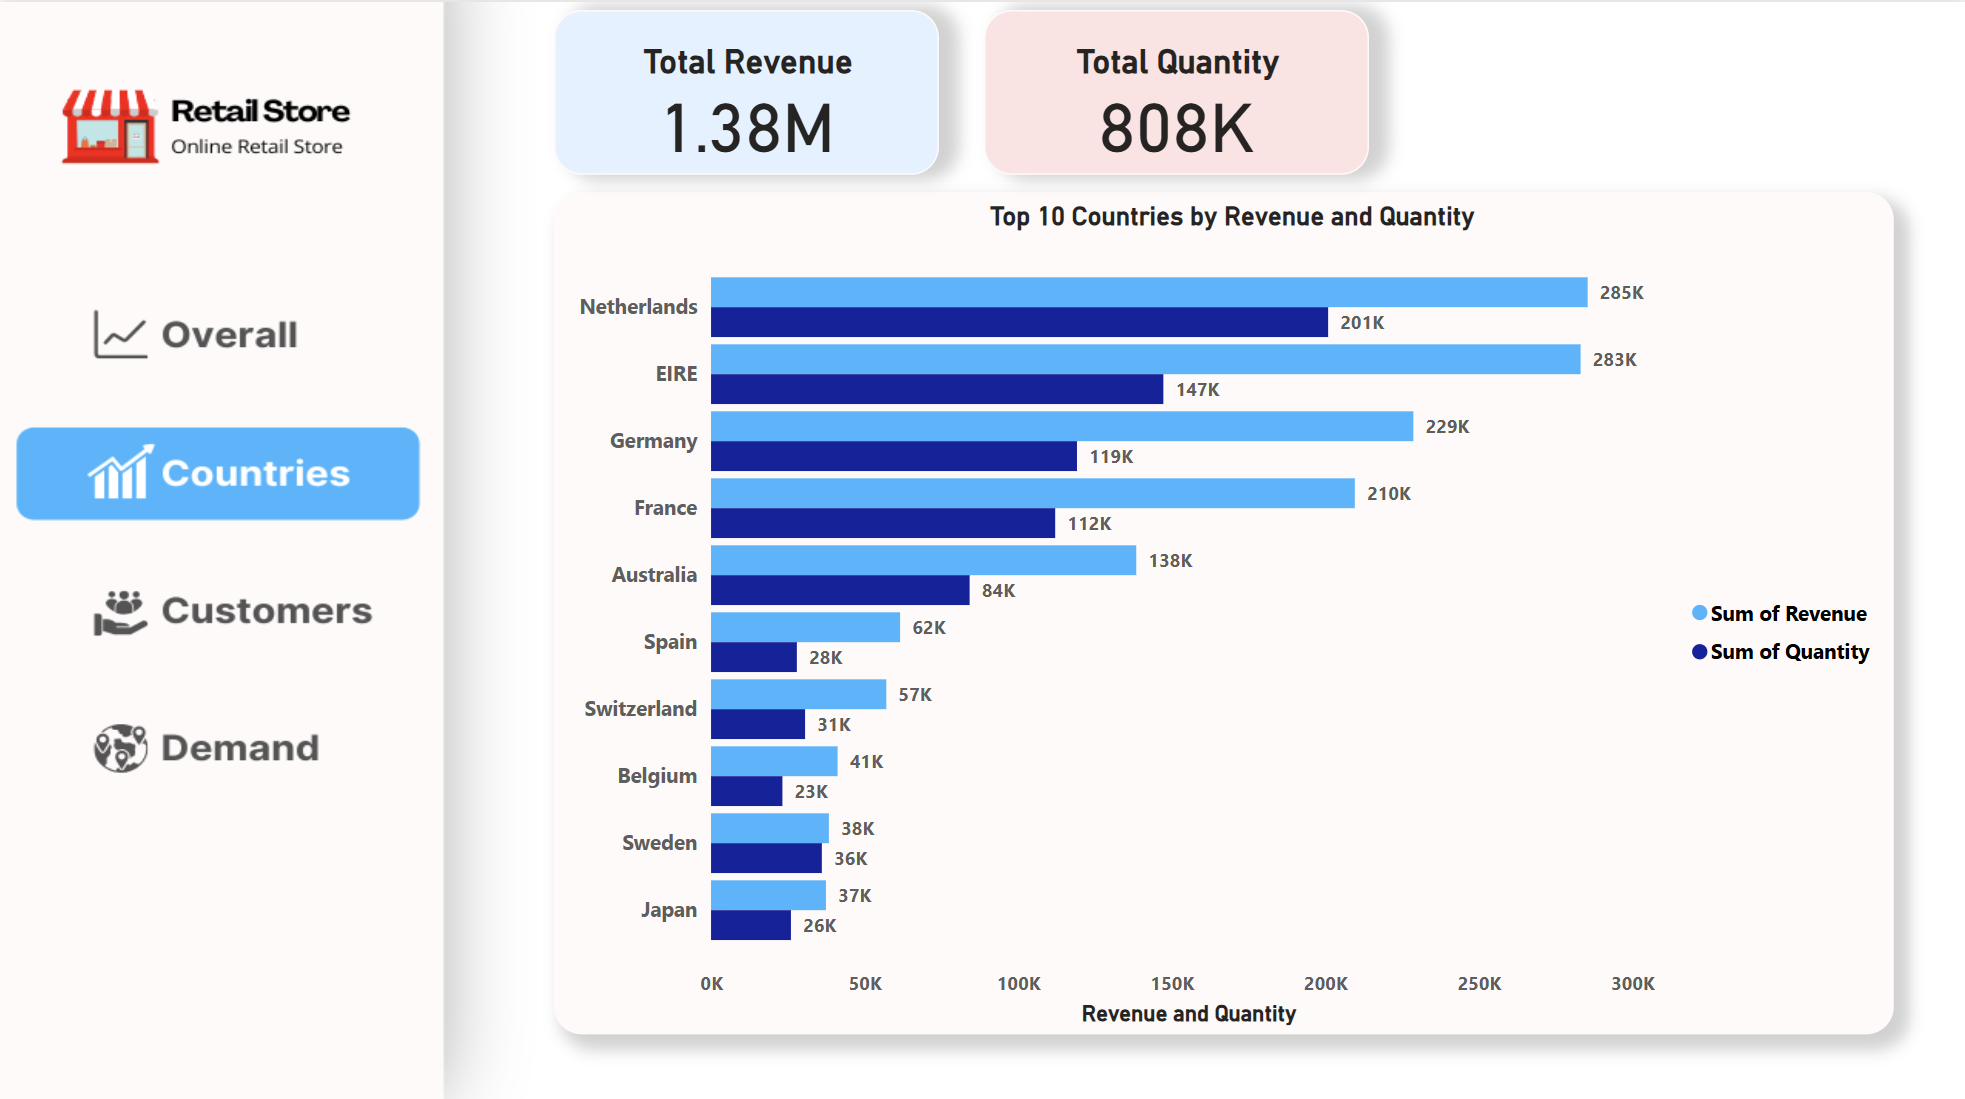

What the dashboard file says about the page in this screenshot:
{"tool":"powerbi","page":{"name":"Q.2","canvas":[1280,720],"ordinal":1},"visuals":[{"type":"actionButton","box":[13.3,366.7,261.3,60],"z":0},{"type":"actionButton","box":[13.3,454.7,261.3,60],"z":1000},{"type":"actionButton","box":[13.3,188,261.3,60],"z":2000},{"type":"clusteredBarChart","title":"Top 10 Countries by Revenue and Quantity","fields":{"Y":["Sum(Retail.Revenue)","Sum(Retail.Quantity)"],"Category":["Retail.Country"]},"box":[361.4,122.9,870,547.1],"z":3000},{"type":"card","title":"Total Revenue","fields":{"Values":["Sum(Retail.Revenue)"]},"box":[361.4,5.7,250,107.1],"z":4000},{"type":"card","title":"Total Quantity","fields":{"Values":["Sum(Retail.Quantity)"]},"box":[640,5.7,250,107.1],"z":5000}]}

Visuals, with their boxes on the page's 1280x720 design canvas (x1, y1, x2, y2). These are canvas units, not pixel positions in the 1965x1099 screenshot, which may show the page scaled, cropped or inside an application window:
actionButton: (x1=13, y1=367, x2=275, y2=427)
actionButton: (x1=13, y1=455, x2=275, y2=515)
actionButton: (x1=13, y1=188, x2=275, y2=248)
"Top 10 Countries by Revenue and Quantity" clusteredBarChart: (x1=361, y1=123, x2=1231, y2=670)
"Total Revenue" card: (x1=361, y1=6, x2=611, y2=113)
"Total Quantity" card: (x1=640, y1=6, x2=890, y2=113)
